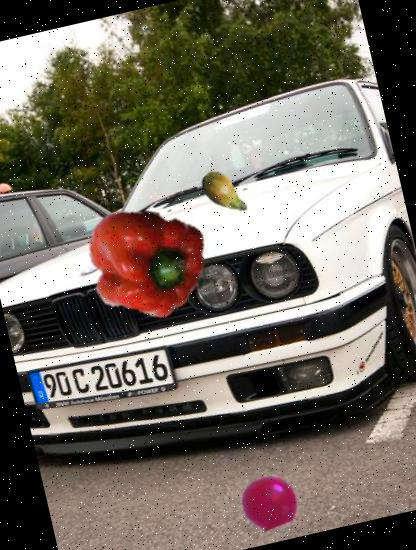Cactus: (192, 162, 257, 227)
Pepper: (72, 190, 218, 335)
Redcurrant: (237, 470, 302, 534)
